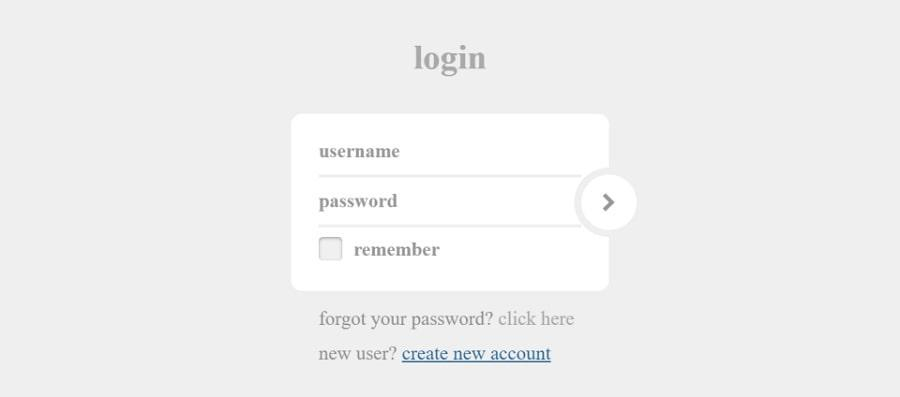checkbox: (319, 237, 344, 262)
icon: (599, 189, 622, 215)
label: (354, 242, 447, 264)
